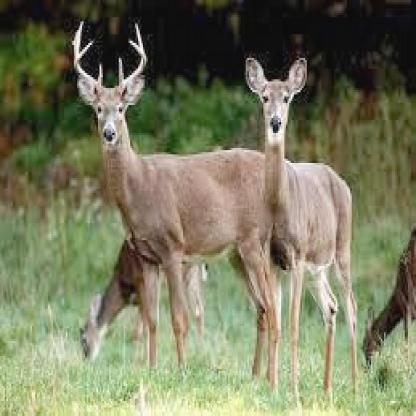Deer: (70, 18, 292, 413), (242, 54, 362, 409), (78, 223, 210, 367)
